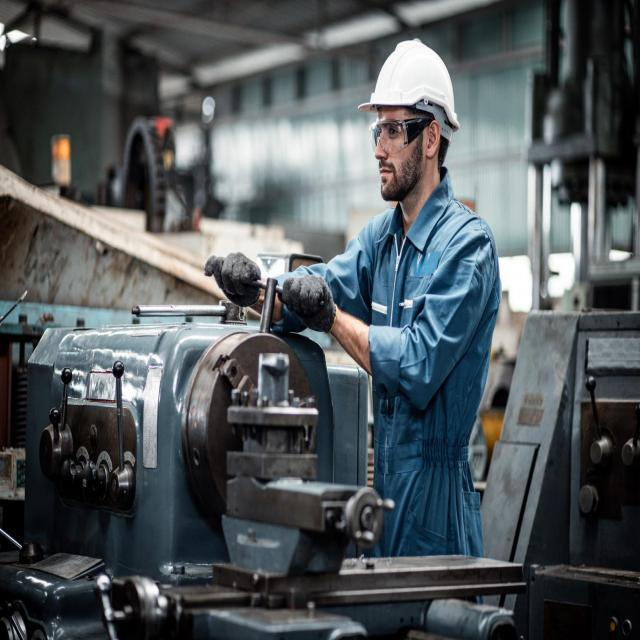safety_helmet: (359, 36, 461, 122), (123, 450, 135, 465)
